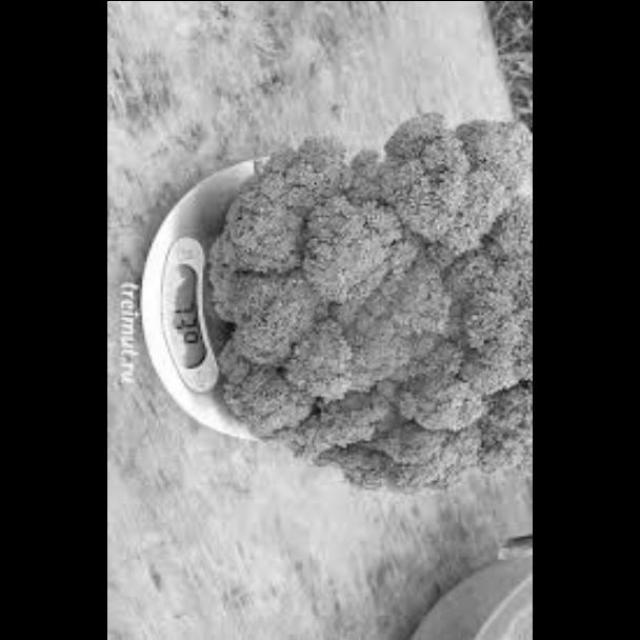bong cai xanh: (224, 104, 525, 492)
